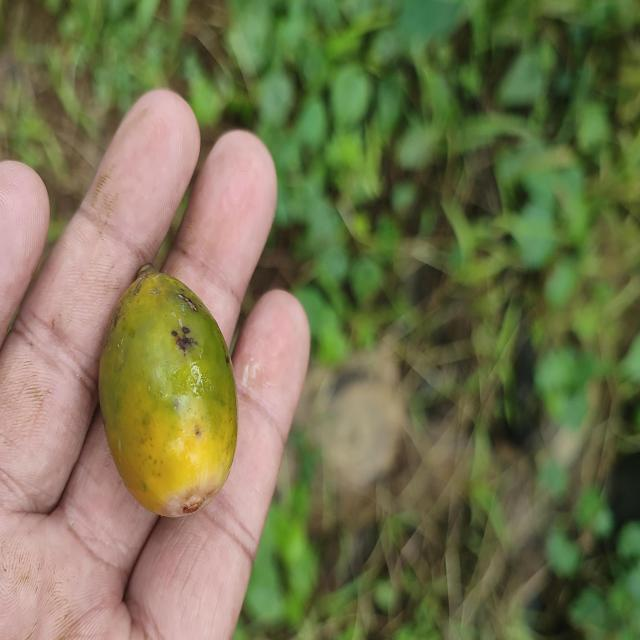good: (96, 267, 238, 520)
